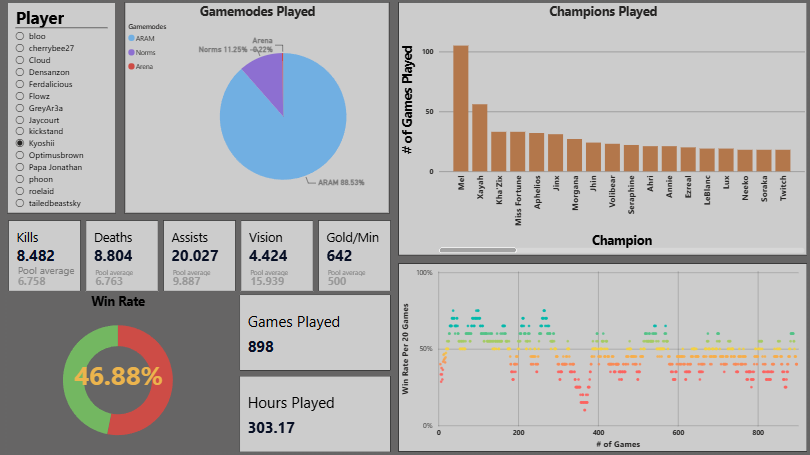

The page's visual inventory and layout, read from the dashboard file:
{"tool":"powerbi","page":{"name":"Page 1","canvas":[1280,720],"ordinal":0},"visuals":[{"type":"columnChart","title":"Champions Played","fields":{"Category":["champions.champion_name"],"Y":["CountNonNull(match_participants.championid)"]},"box":[625.7,0,654.3,405.7],"z":0},{"type":"slicer","fields":{"Values":["players.gamename"]},"box":[0,0,174.3,338.6],"z":1000},{"type":"pieChart","title":"Gamemodes Played","fields":{"Y":["CountNonNull(matches.queueid)"],"Category":["queue_ids.Gamemodes"]},"box":[187.1,0,424.3,338.6],"z":2000},{"type":"donutChart","title":"Win Rate","fields":{"Category":["match_participants.Win"],"Y":["CountNonNull(match_participants.Win)"]},"box":[1.2,463.8,351.2,256.2],"z":3000},{"type":"scatterChart","fields":{"X":["match_participants.Dynamic Player Game Index"],"Y":["match_participants.Rolling 20 Win %"],"Category":["match_participants.matchid"]},"box":[625.7,418.6,654.3,301.4],"z":4000},{"type":"cardVisual","fields":{"Data":["Avg(match_participants.kills)","Avg(match_participants.Deaths)","Avg(match_participants.Assists)","Avg(match_participants.Vision_Score)","Avg(match_participants.GPM_Column)"]},"box":[1.4,344.3,612.9,124.3],"z":5000},{"type":"cardVisual","fields":{"Data":["match_participants.Average Kills Tooltip (Ignoring Player)","match_participants.Average Deaths Tooltip (Ignoring Player)","match_participants.Average Assists Tooltip (Ignoring Player)","match_participants.Average Vision Score Tooltip (Ignoring Player)","match_participants.Average GPM Tooltip (Ignoring Player)"]},"box":[0,418.5,624.6,47.7],"z":6000},{"type":"cardVisual","fields":{"Data":["Avg(match_participants.Win)"]},"box":[87.1,537.1,181.4,107.1],"z":7000},{"type":"cardVisual","fields":{"Data":["Count(matches.matchid)","Sum(matches.Duration (hours))"]},"box":[371.4,467.1,242.9,252.9],"z":8000},{"type":"cardVisual","fields":{"Data":["match_participants.Average Kills Tooltip (Ignoring Player)","match_participants.Average Deaths Tooltip (Ignoring Player)","match_participants.Average Assists Tooltip (Ignoring Player)","match_participants.Average Vision Score Tooltip (Ignoring Player)","match_participants.Average GPM Tooltip (Ignoring Player)"]},"box":[0,400,624.3,47.1],"z":9000}]}

Visuals, with their boxes in screenshot pixels (x1, y1, x2, y2), scaled from the page's 1280x720 canvas onto the 810x455 screenshot:
"Champions Played" columnChart: select_region(396, 0, 809, 256)
slicer - players.gamename: select_region(0, 0, 110, 214)
"Gamemodes Played" pieChart: select_region(118, 0, 387, 214)
"Win Rate" donutChart: select_region(1, 293, 223, 454)
scatterChart - match_participants.Dynamic Player Game Index x match_participants.Rolling 20 Win %: select_region(396, 265, 809, 454)
cardVisual - Avg(match_participants.kills) x Avg(match_participants.Deaths): select_region(1, 218, 389, 296)
cardVisual - match_participants.Average Kills Tooltip (Ignoring Player) x match_participants.Average Deaths Tooltip (Ignoring Player): select_region(0, 264, 395, 295)
cardVisual - Avg(match_participants.Win): select_region(55, 339, 170, 407)
cardVisual - Count(matches.matchid) x Sum(matches.Duration (hours)): select_region(235, 295, 389, 454)
cardVisual - match_participants.Average Kills Tooltip (Ignoring Player) x match_participants.Average Deaths Tooltip (Ignoring Player): select_region(0, 253, 395, 283)
